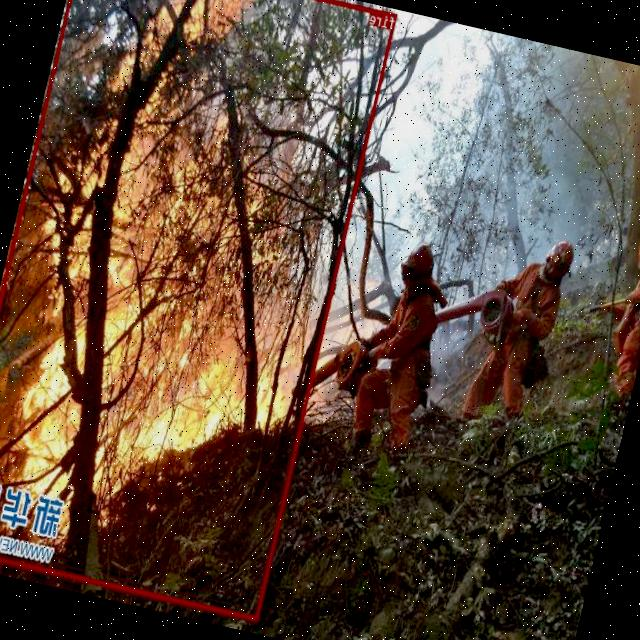fire: (0, 0, 398, 621)
